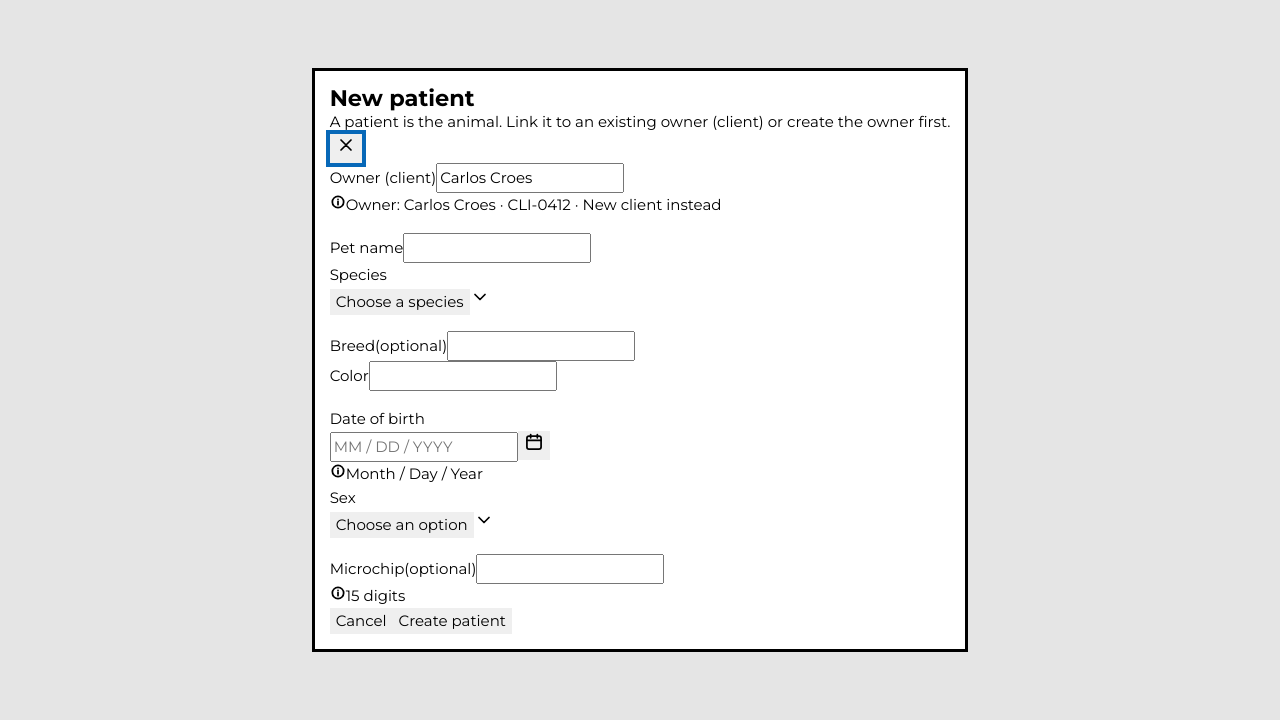
PatientModal › explains what is missing
Click the button "Create patient": (452, 621) x1=393 y1=608 x2=512 y2=634
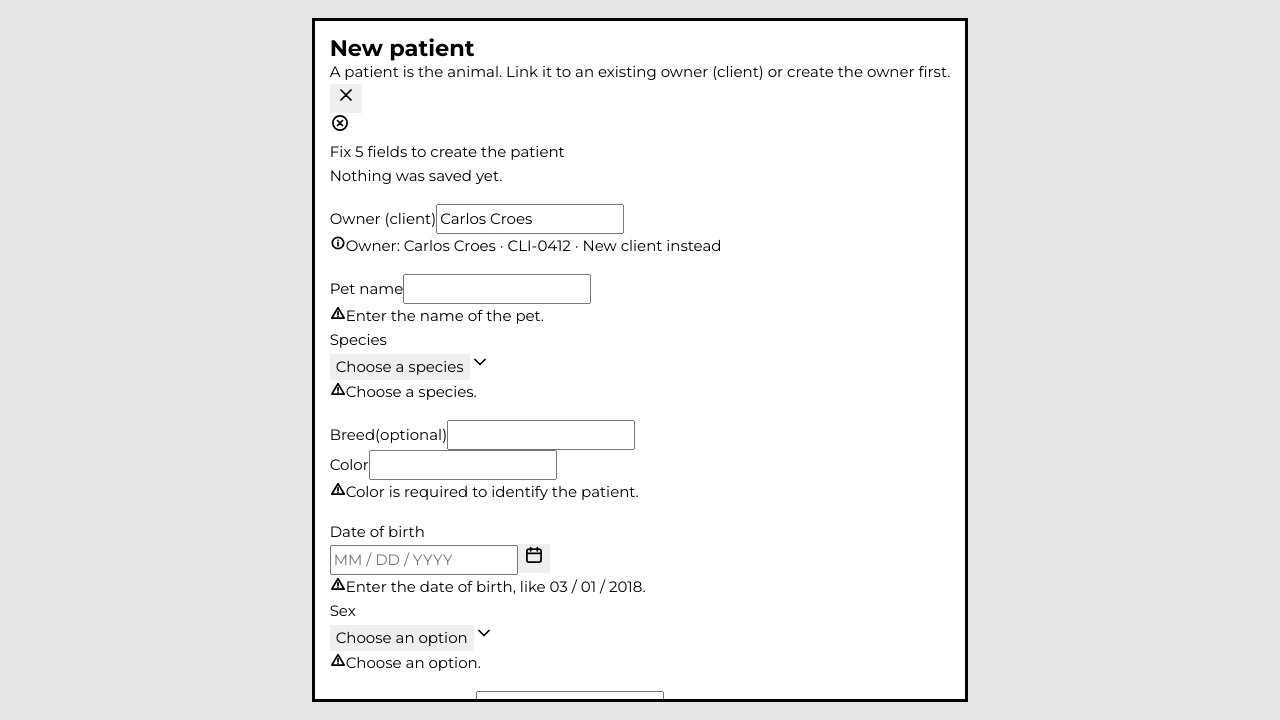
Now the message shows "Fix 5 fields to create the patient", box x1=330 y1=142 x2=565 y2=161
Now the text "Color is required to identify the patient." is shown, box x1=346 y1=482 x2=639 y2=501
